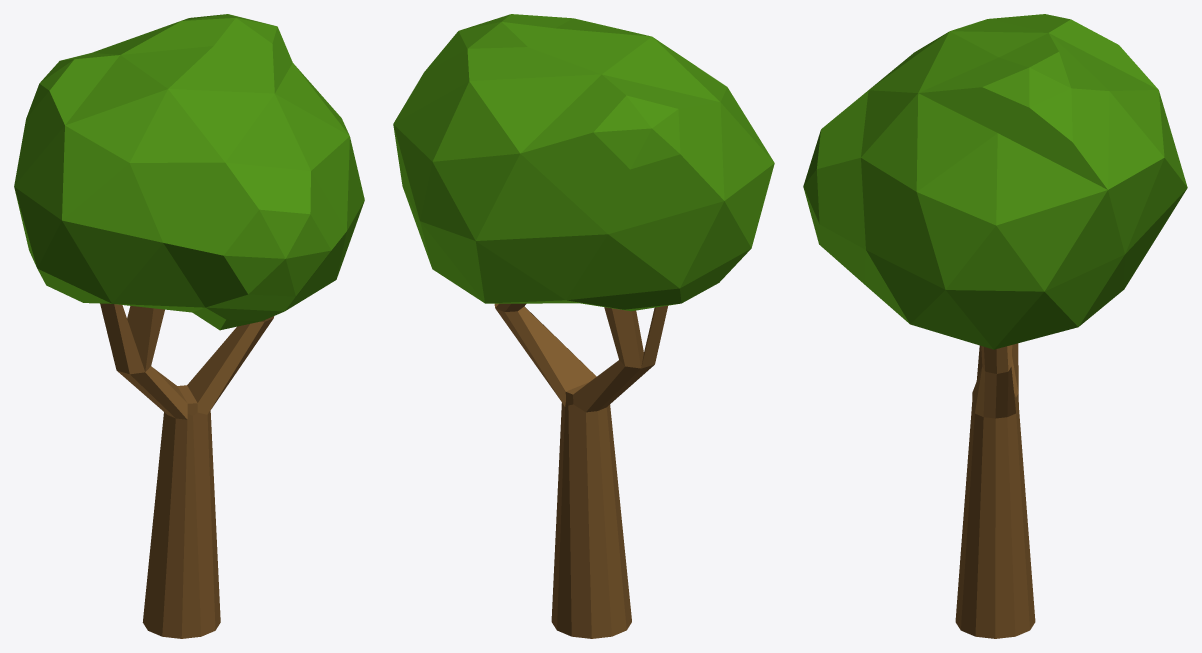
File: SM_LeafTree2.fbx
3 views of the same model, side by side, from view 1: azimuth 30°, elevation 25°; view 2: azimuth 150°, elevation 25°; view 3: azimuth 270°, elevation 25° (orthographic). The views are drawn at different scales.
Visible parts, largest first — view 1: SM_LeafTree2; view 2: SM_LeafTree2; view 3: SM_LeafTree2.
Part boxes in pixels (x1,y1,x2,y2): SM_LeafTree2: [14, 14, 364, 638]; SM_LeafTree2: [393, 14, 774, 638]; SM_LeafTree2: [803, 14, 1187, 638].
Size of the model in its own units: 667 by 1184 by 699.
